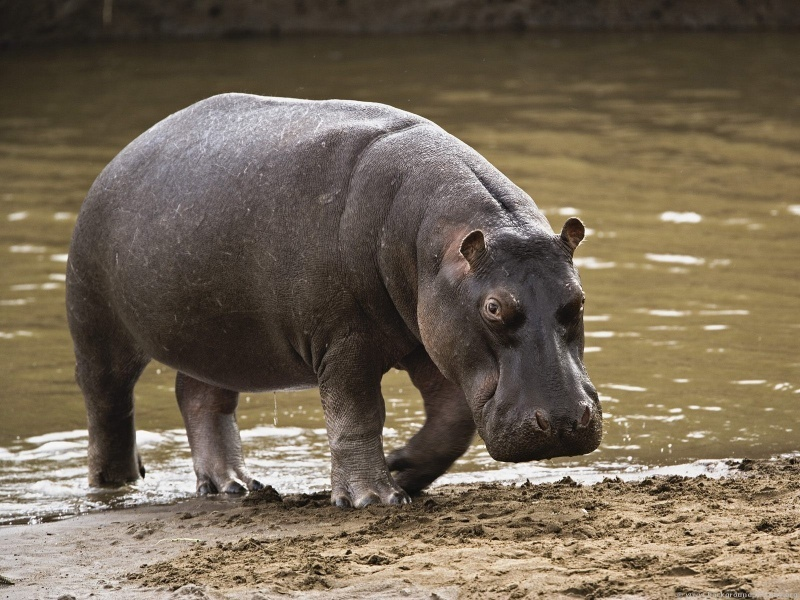hipopotamo: (35, 64, 651, 548)
